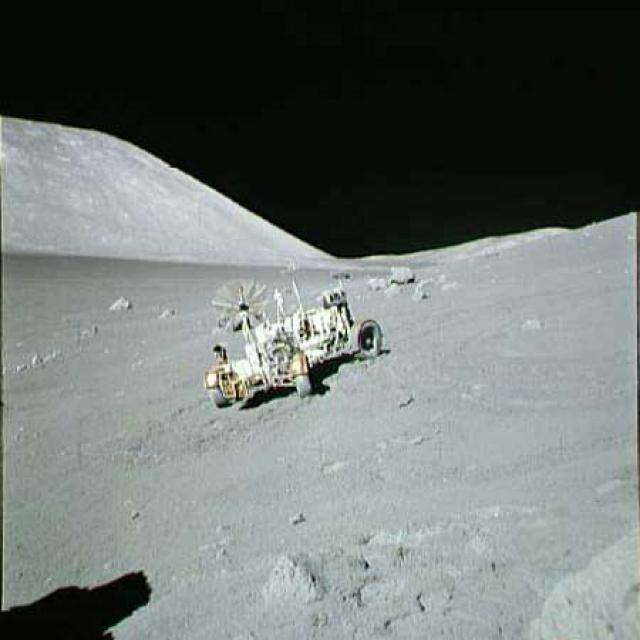artifact: (190, 262, 390, 412)
rock: (106, 290, 135, 316), (411, 280, 438, 301), (363, 272, 387, 294), (388, 264, 414, 284)
